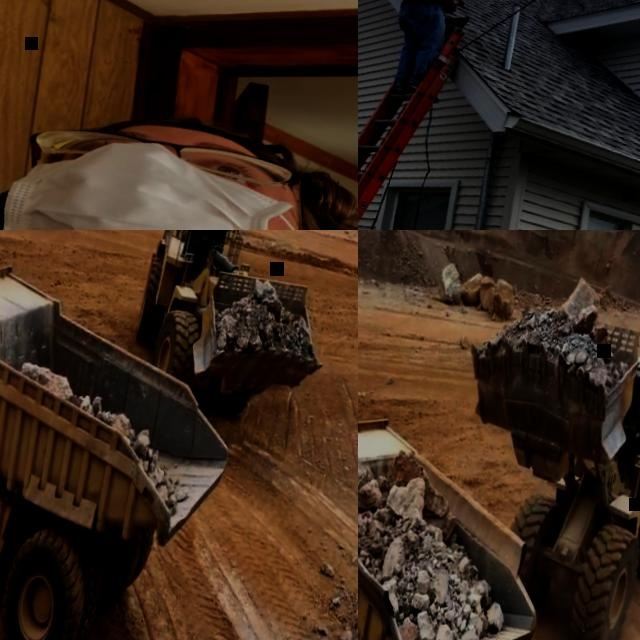Mask: (0, 120, 333, 230)
NO-Hardhat: (98, 95, 356, 176)
Person: (0, 50, 358, 230), (380, 0, 492, 109)
machinery: (0, 237, 263, 640), (414, 277, 640, 640), (358, 387, 573, 640), (117, 230, 354, 448)
